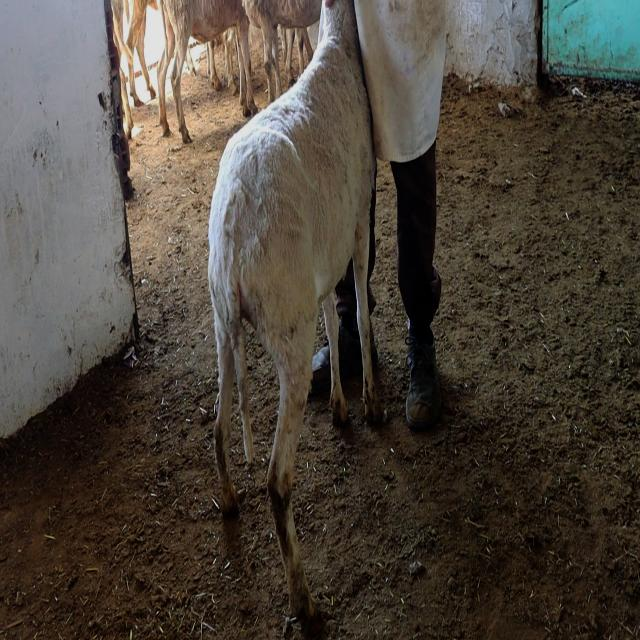Score_3: (208, 0, 382, 635)
